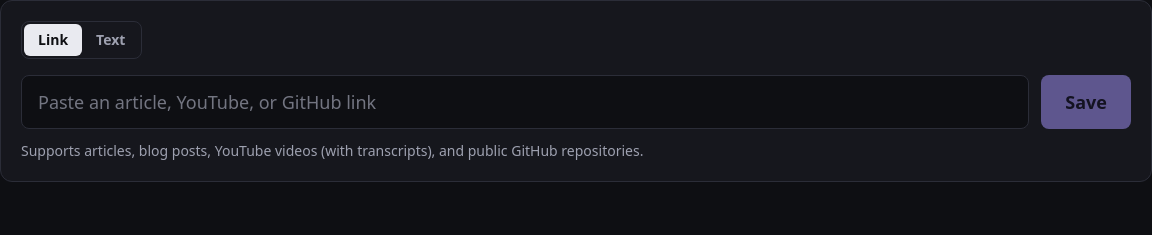
Test case: saving a link › explains an unexpected failure in plain words
Type "https://example.com/a" into the field named "Link to save" at (525, 102), box [21,75,1029,129]
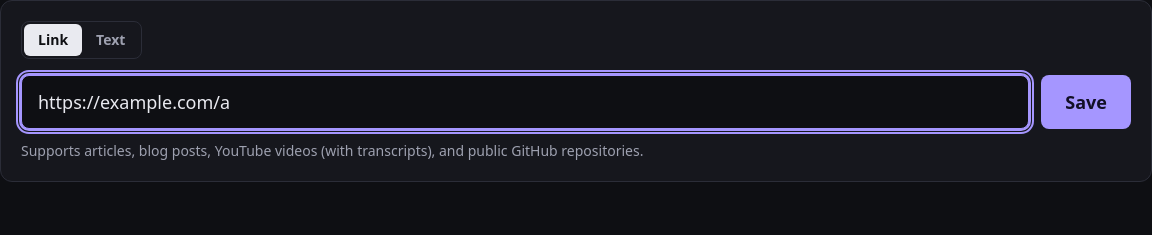
Click the button "Save" at (1086, 102), box [1041,75,1131,129]
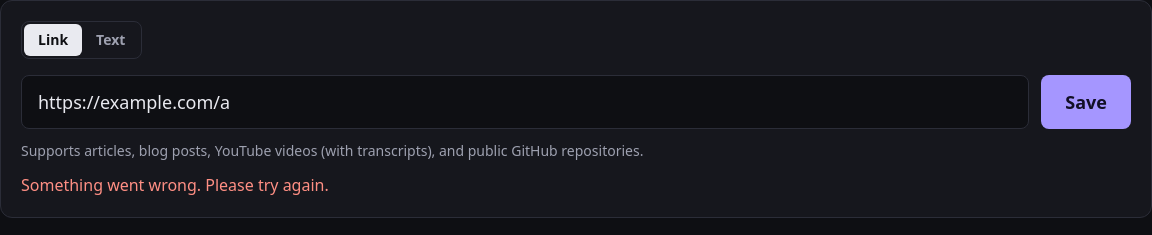
Now the message reads "Something went wrong. Please try again.", box [21,174,329,196]
